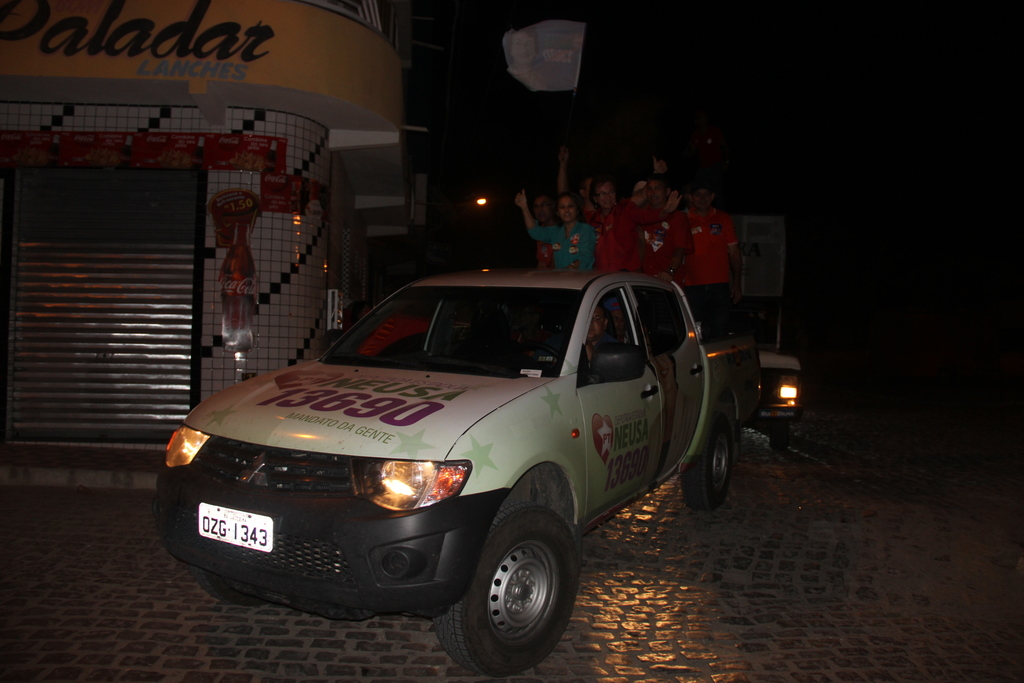mobil: (165, 276, 753, 659)
